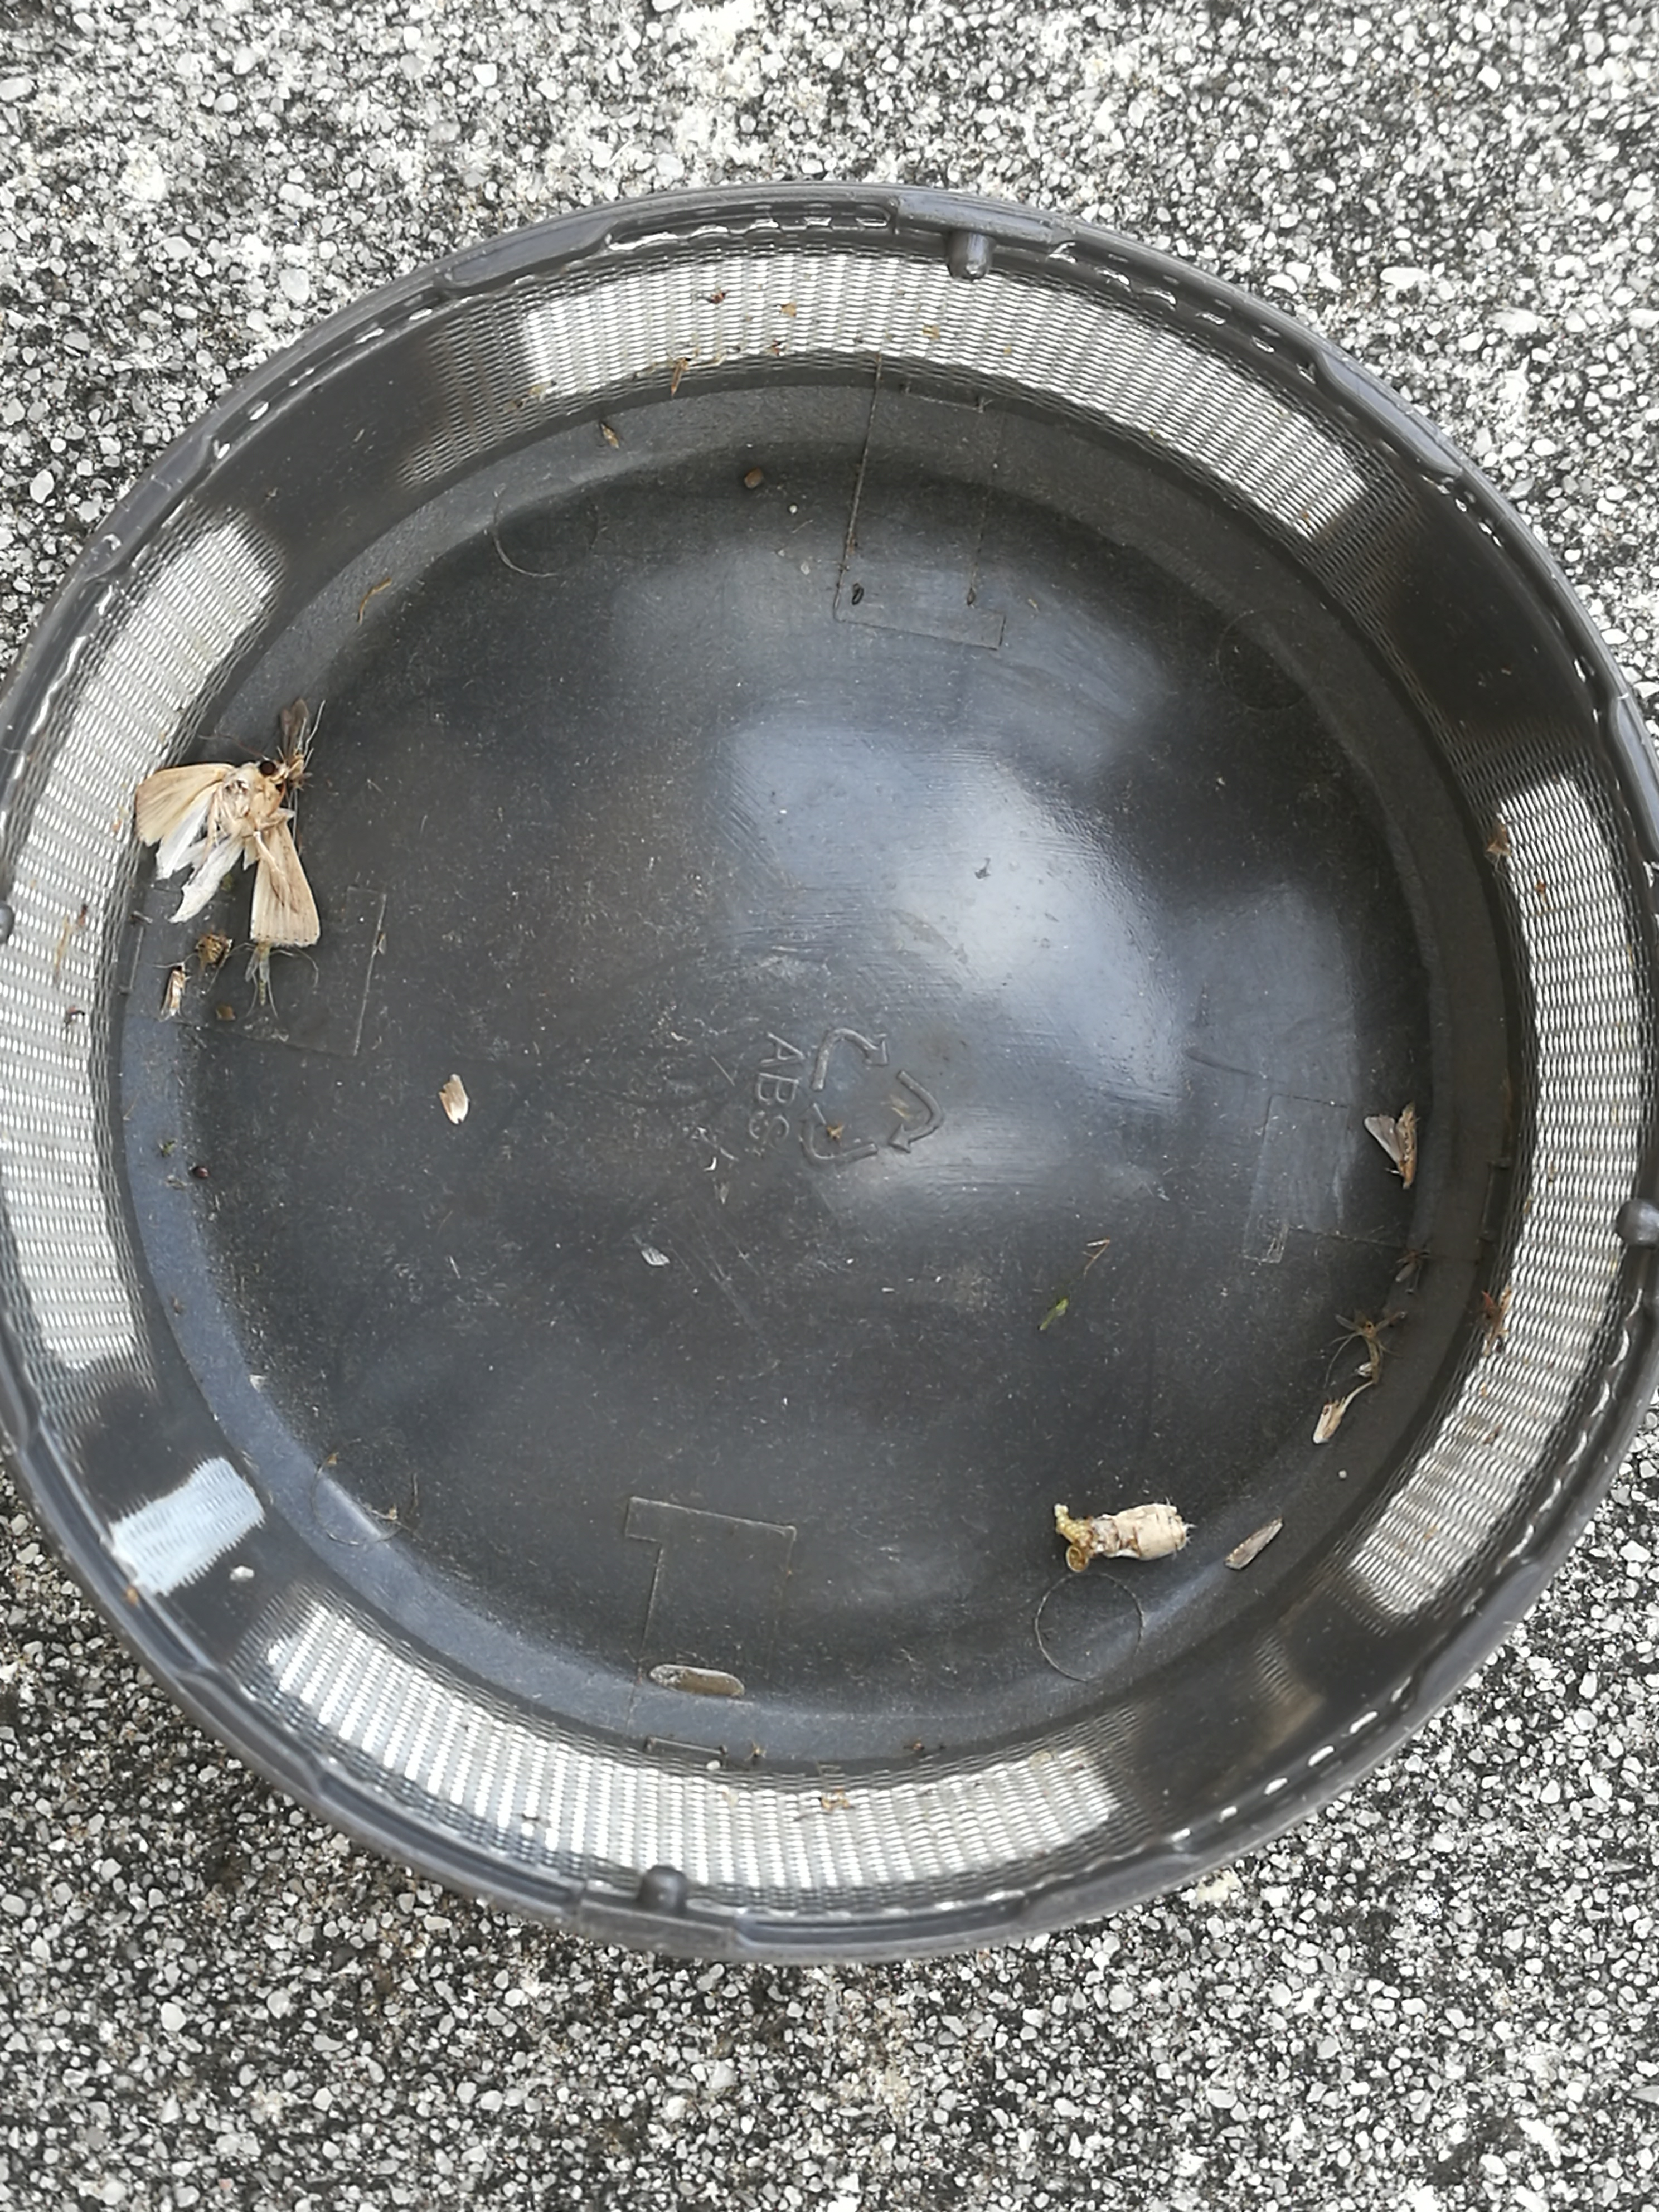mosquito: (282, 700, 308, 787), (244, 942, 270, 1007), (160, 963, 185, 1022)
moth: (139, 761, 321, 948), (1370, 1104, 1415, 1186)
